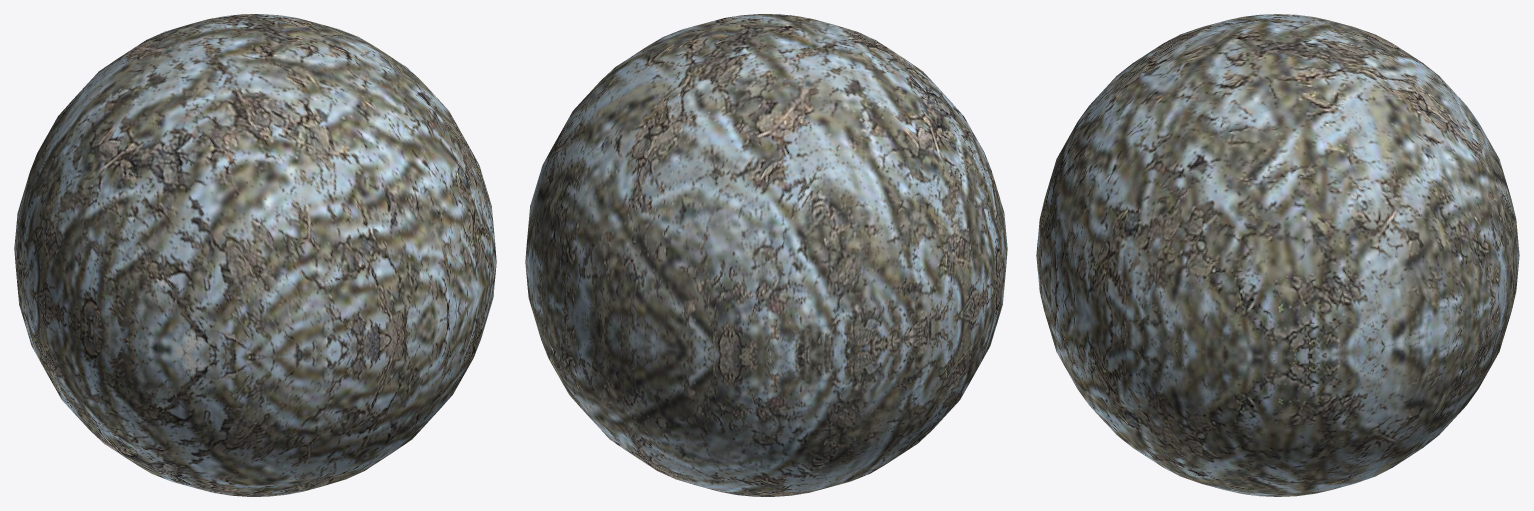
The model's file is Earth_planet_4.FBX.
3 renders of one model, left to right at view 1: azimuth 30°, elevation 25°; view 2: azimuth 150°, elevation 25°; view 3: azimuth 270°, elevation 25°, orthographic.
Parts seen in each view (by area): view 1: Earth_planet_3; view 2: Earth_planet_3; view 3: Earth_planet_3.
Boxes of the visible parts, left/top/right/bottom form: Earth_planet_3: left=14, top=14, right=496, bottom=496; Earth_planet_3: left=525, top=14, right=1007, bottom=496; Earth_planet_3: left=1036, top=14, right=1519, bottom=496.
Size of the model in its own units: 69.73 by 69.73 by 69.73.
